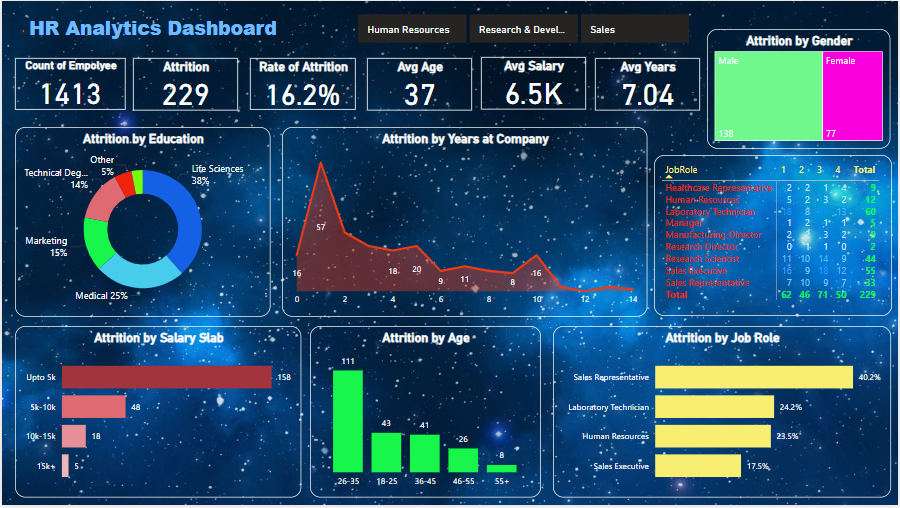

This screenshot's page, from the dashboard's own definition file:
{"tool":"powerbi","page":{"name":"Page 1","canvas":[1280,720],"ordinal":0},"visuals":[{"type":"card","title":"Count of Empolyee","fields":{"Values":["CountNonNull(HR_Analytics.EmpID)"]},"box":[19.3,81.2,158.3,74.3],"z":0},{"type":"card","title":"         Attrition","fields":{"Values":["Sum(HR_Analytics.Attrition count)"]},"box":[186.9,80.9,150.1,75],"z":1000},{"type":"card","title":"Avg Age","fields":{"Values":["Avg(HR_Analytics.Age)"]},"box":[520.8,80.9,150,75],"z":2000},{"type":"card","title":"Rate of Attrition","fields":{"Values":["HR_Analytics.Attrition Rate"]},"box":[353.7,81.2,151.4,74.3],"z":3000},{"type":"card","title":"Avg Salary","fields":{"Values":["Avg(HR_Analytics.MonthlyIncome)"]},"box":[684.1,79.4,150,75],"z":4000},{"type":"card","title":"Avg Years","fields":{"Values":["Avg(HR_Analytics.YearsAtCompany)"]},"box":[847.4,80.9,150,75],"z":5000},{"type":"donutChart","title":"Attrition by Education","fields":{"Category":["HR_Analytics.EducationField"],"Y":["Sum(HR_Analytics.Attrition count)"]},"box":[19.1,179.5,365,270.7],"z":6000},{"type":"columnChart","title":"Attrition by Age","fields":{"Category":["HR_Analytics.AgeGroup"],"Y":["Sum(HR_Analytics.Attrition count)"]},"box":[439.9,464.9,329.6,245],"z":7000},{"type":"pivotTable","fields":{"Rows":["HR_Analytics.JobRole"],"Columns":["HR_Analytics.JobSatisfaction"],"Values":["Sum(HR_Analytics.Attrition count)"]},"box":[931.3,220.7,340,230],"z":8000},{"type":"barChart","title":"Attrition by Salary Slab","fields":{"Category":["HR_Analytics.SalarySlab"],"Y":["Sum(HR_Analytics.Attrition count)"]},"box":[19.1,464.9,409,245],"z":9000},{"type":"barChart","title":"Attrition by Job Role","fields":{"Category":["HR_Analytics.JobRole"],"Y":["HR_Analytics.Attrition Rate"]},"box":[787.1,464.9,482.6,245],"z":10000},{"type":"stackedAreaChart","title":"Attrition by Years at Company","fields":{"Category":["HR_Analytics.YearsAtCompany"],"Y":["Sum(HR_Analytics.Attrition count)"]},"box":[400.2,179.5,522.3,270.7],"z":11000},{"type":"treemap","title":"Attrition by Gender","fields":{"Group":["HR_Analytics.Gender"],"Values":["Sum(HR_Analytics.Attrition count)"]},"box":[1007.8,39.7,261.9,170.7],"z":12000},{"type":"advancedSlicerVisual","fields":{"Values":["HR_Analytics.Department"]},"box":[504.6,14.7,482.6,50],"z":13000},{"type":"textbox","box":[19.1,14.7,420.8,50],"z":14000}]}

Visuals, with their boxes in screenshot pixels (x1, y1, x2, y2), scaled from the page's 1280x720 canvas onto the 900x508 screenshot:
"Count of Empolyee" card: [14,57,125,110]
"         Attrition" card: [131,57,237,110]
"Avg Age" card: [366,57,472,110]
"Rate of Attrition" card: [249,57,355,110]
"Avg Salary" card: [481,56,586,109]
"Avg Years" card: [596,57,701,110]
"Attrition by Education" donutChart: [13,127,270,318]
"Attrition by Age" columnChart: [309,328,541,501]
pivotTable - HR_Analytics.JobRole x HR_Analytics.JobSatisfaction: [655,156,894,318]
"Attrition by Salary Slab" barChart: [13,328,301,501]
"Attrition by Job Role" barChart: [553,328,893,501]
"Attrition by Years at Company" stackedAreaChart: [281,127,649,318]
"Attrition by Gender" treemap: [709,28,893,148]
advancedSlicerVisual - HR_Analytics.Department: [355,10,694,46]
textbox: [13,10,309,46]
